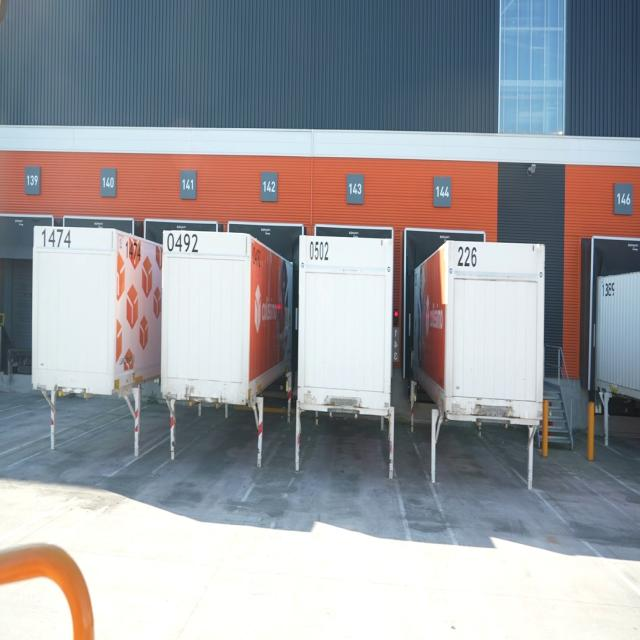Code: (162, 226, 201, 259), (38, 222, 74, 254), (456, 243, 484, 275), (306, 239, 331, 266), (122, 235, 144, 261)
